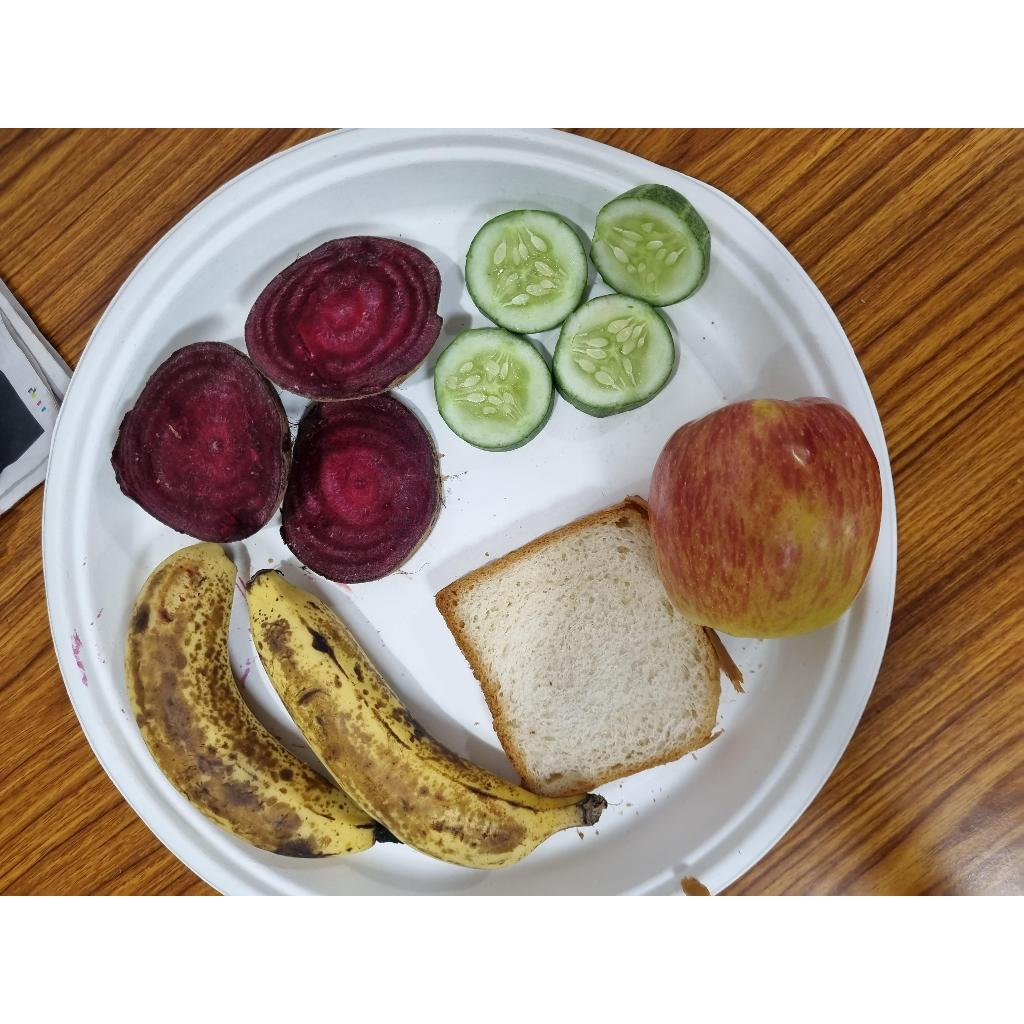apple: (644, 398, 888, 642)
banana: (237, 569, 606, 871), (126, 560, 385, 861)
cucumber: (530, 291, 681, 422), (429, 327, 558, 456), (461, 211, 592, 334), (589, 184, 713, 312)
